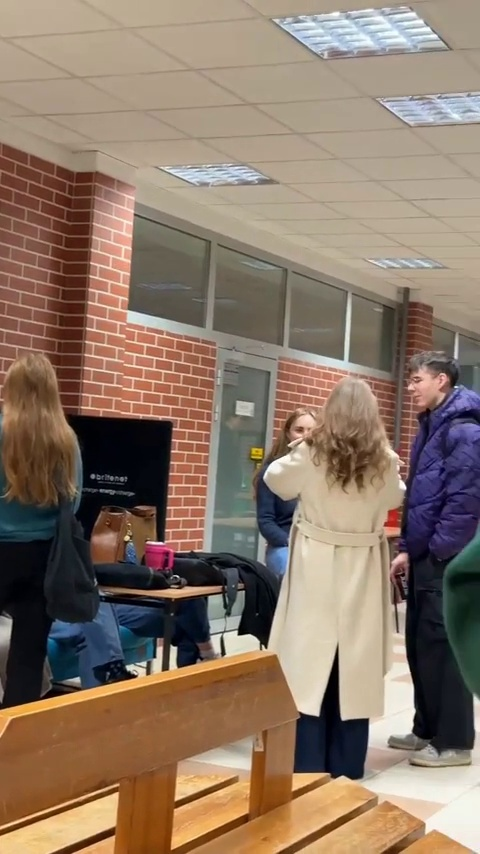no vest: (265, 370, 389, 716), (4, 345, 98, 676), (397, 343, 470, 713)
